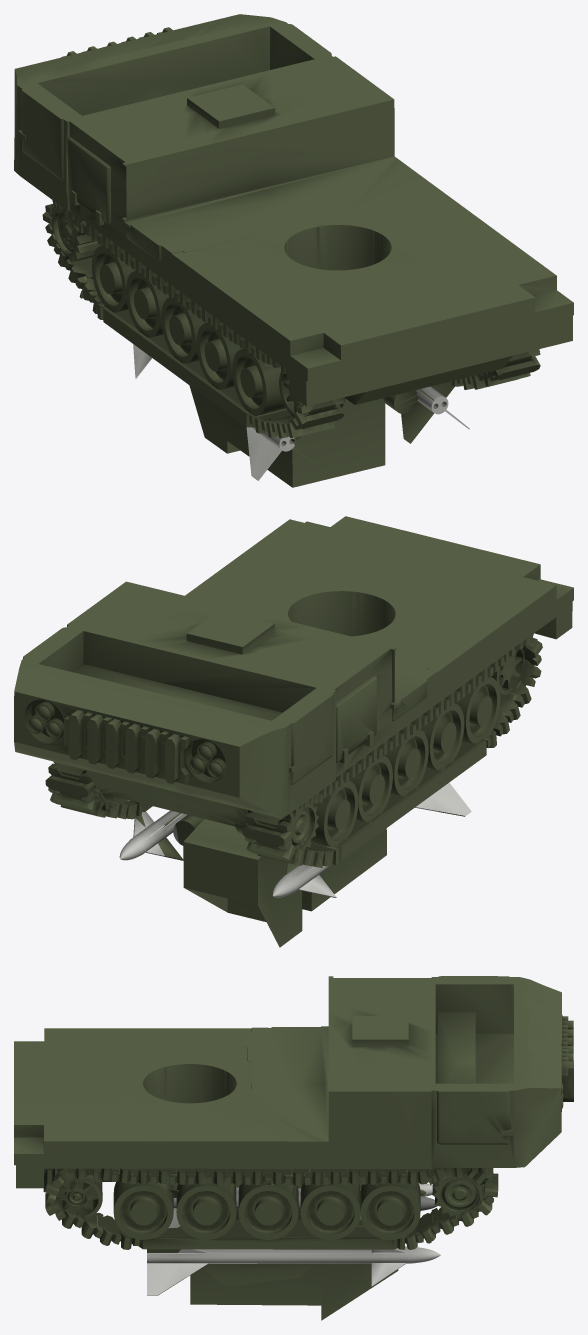
File: chaparral.glb
3 views of the same model, one above another, from view 1: azimuth 30°, elevation 25°; view 2: azimuth 150°, elevation 25°; view 3: azimuth 270°, elevation 25° (orthographic). The views are drawn at different scales.
Parts seen in each view (by area): view 1: body|MIM-72Carrier#camo, cradle|MIM-72Launcher#camo, cradle|MIM-72Launcher#msl; view 2: body|MIM-72Carrier#camo, cradle|MIM-72Launcher#camo, cradle|MIM-72Launcher#msl; view 3: body|MIM-72Carrier#camo, cradle|MIM-72Launcher#camo, cradle|MIM-72Launcher#msl.
Part boxes in pixels (x1=…): body|MIM-72Carrier#camo: x1=14, y1=14, x2=573, y2=438; cradle|MIM-72Launcher#camo: x1=189, y1=381, x2=454, y2=487; cradle|MIM-72Launcher#msl: x1=133, y1=344, x2=469, y2=480; body|MIM-72Carrier#camo: x1=14, y1=516, x2=573, y2=867; cradle|MIM-72Launcher#camo: x1=135, y1=811, x2=465, y2=947; cradle|MIM-72Launcher#msl: x1=119, y1=782, x2=471, y2=897; body|MIM-72Carrier#camo: x1=14, y1=976, x2=573, y2=1249; cradle|MIM-72Launcher#camo: x1=147, y1=1183, x2=425, y2=1320; cradle|MIM-72Launcher#msl: x1=147, y1=1183, x2=440, y2=1295.
Bounding box in the file's own units: 2.95 × 3.27 × 5.97.
